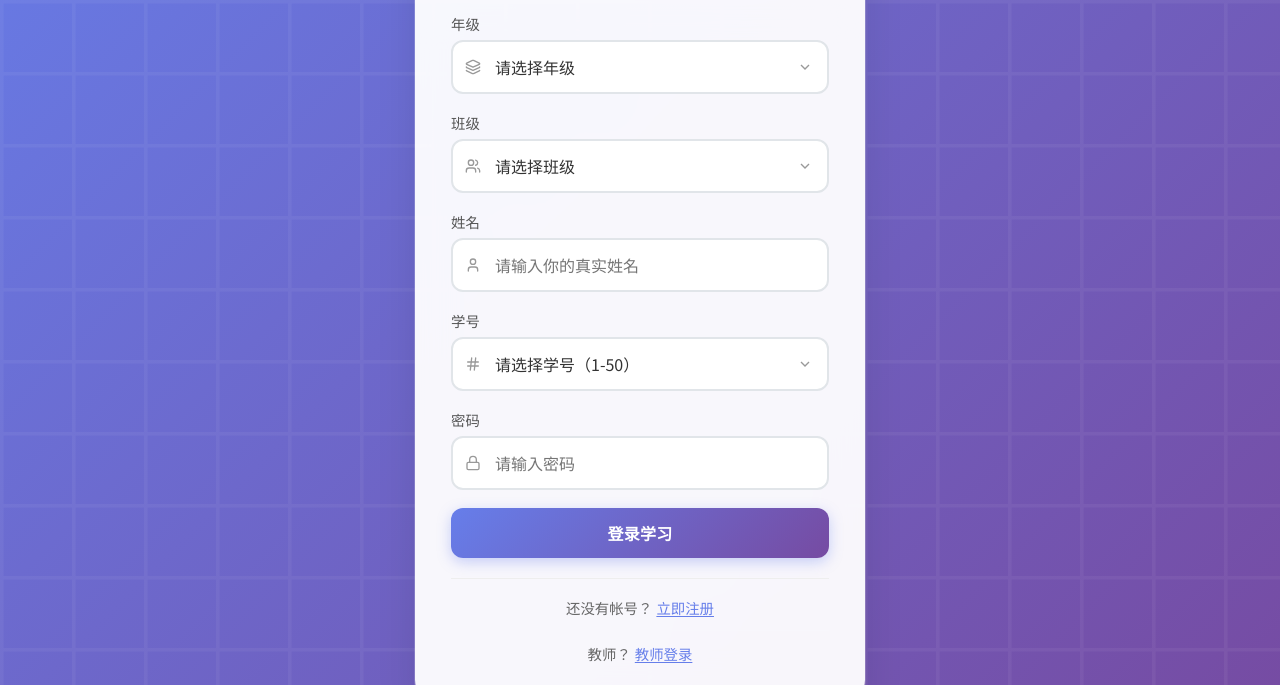
Login.jsx › switches to register mode when clicking 立即注册
This screenshot has width=1280, height=685.
(page scrolled)
Click the text "立即注册" at (685,608), box [656, 597, 714, 618]
(page scrolled)
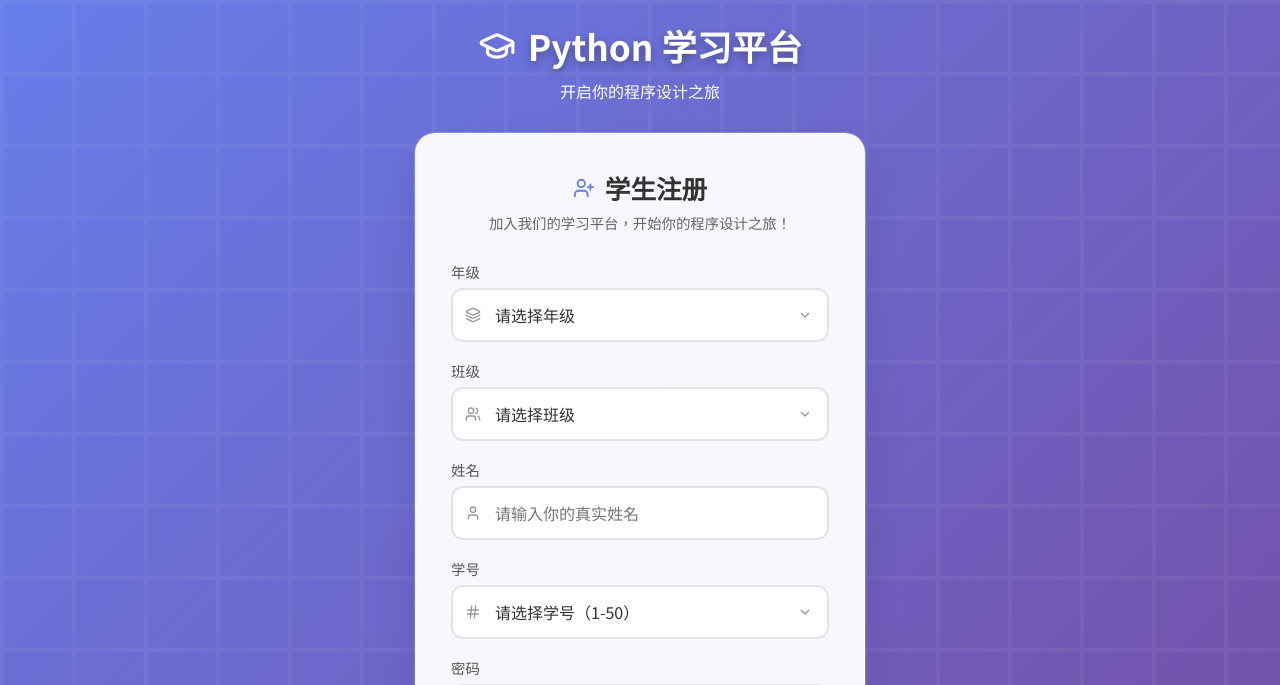
Now the heading "学生注册" is shown, box [573, 169, 707, 206]
